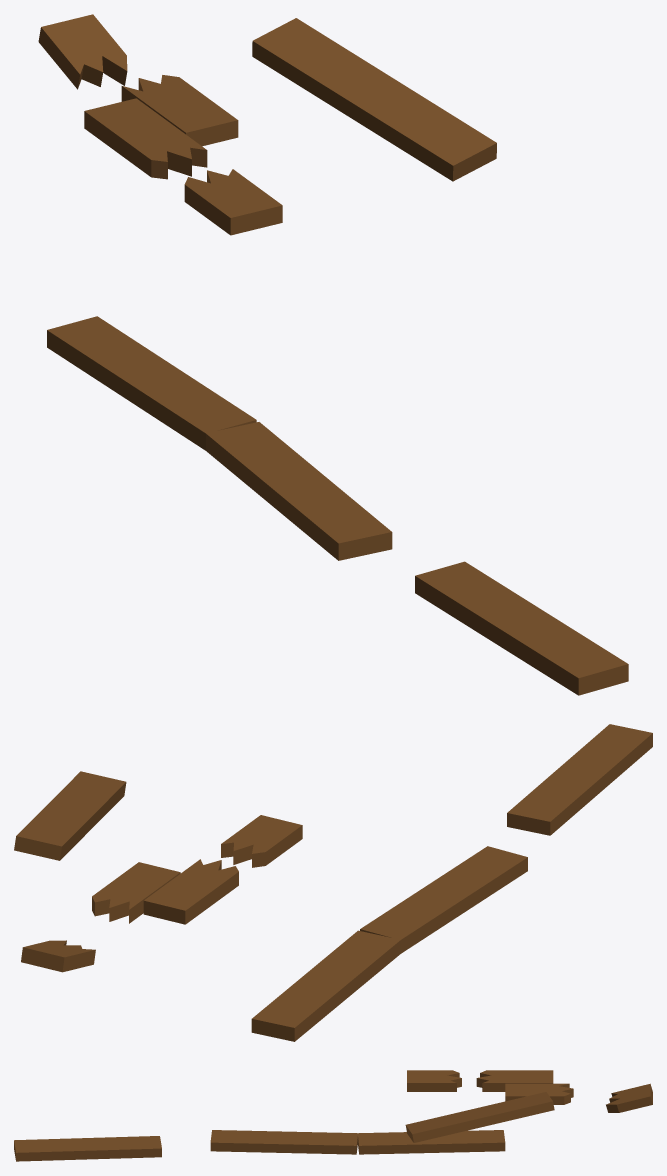
Rendered from PirateShips_PlankDamage_Variants.fbx.
3 views of the same model, one above another, from view 1: azimuth 30°, elevation 25°; view 2: azimuth 150°, elevation 25°; view 3: azimuth 270°, elevation 25° (orthographic). The views are drawn at different scales.
Visible parts, largest first — view 1: Displaced_LoosePlank, Single_DroppedPlank, LongGap_DroppedPlank_1, LongGap_DroppedPlank_2, Snap_1_B, Snap_2_B, Snap_1_A, Snap_2_A; view 2: LongGap_DroppedPlank_2, Single_DroppedPlank, LongGap_DroppedPlank_1, Displaced_LoosePlank, Snap_1_B, Snap_2_A, Snap_1_A, Snap_2_B; view 3: Single_DroppedPlank, LongGap_DroppedPlank_1, Displaced_LoosePlank, LongGap_DroppedPlank_2, Snap_1_B, Snap_1_A, Snap_2_A, Snap_2_B.
Boxes of the visible parts, <box> form: Displaced_LoosePlank: <box>252,18,496,181</box>; Single_DroppedPlank: <box>415,561,628,695</box>; LongGap_DroppedPlank_1: <box>206,422,392,560</box>; LongGap_DroppedPlank_2: <box>47,316,256,450</box>; Snap_1_B: <box>84,98,207,179</box>; Snap_2_B: <box>38,14,127,89</box>; Snap_1_A: <box>184,169,282,235</box>; Snap_2_A: <box>121,75,238,146</box>; LongGap_DroppedPlank_2: <box>251,930,400,1041</box>; Single_DroppedPlank: <box>507,724,652,835</box>; LongGap_DroppedPlank_1: <box>360,846,527,953</box>; Displaced_LoosePlank: <box>14,771,126,860</box>; Snap_1_B: <box>143,859,238,924</box>; Snap_2_A: <box>92,862,180,923</box>; Snap_1_A: <box>221,815,302,867</box>; Snap_2_B: <box>21,940,95,972</box>; Single_DroppedPlank: <box>14,1136,161,1161</box>; LongGap_DroppedPlank_1: <box>210,1130,357,1154</box>; Displaced_LoosePlank: <box>405,1092,554,1142</box>; LongGap_DroppedPlank_2: <box>358,1130,505,1154</box>; Snap_1_B: <box>476,1070,553,1091</box>; Snap_1_A: <box>407,1070,461,1091</box>; Snap_2_A: <box>505,1083,573,1104</box>; Snap_2_B: <box>606,1083,652,1112</box>.
Bounding box in the file's own units: 3.67 × 2.15 × 11.29.
